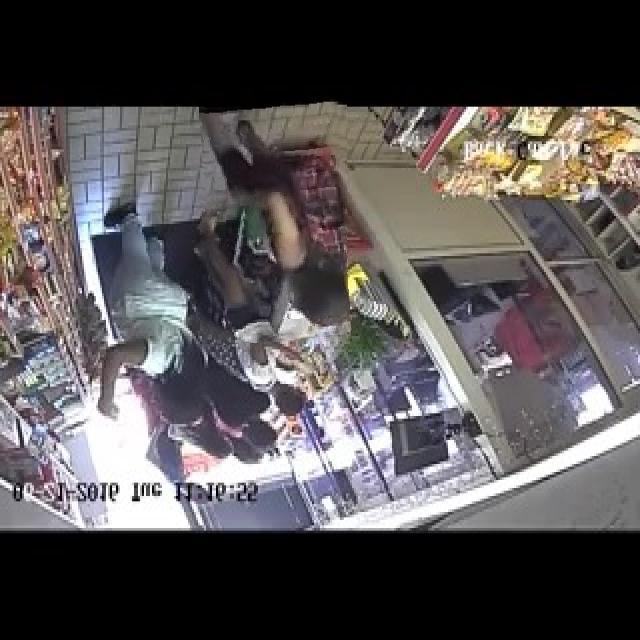Shoplifting: (202, 97, 347, 343)
